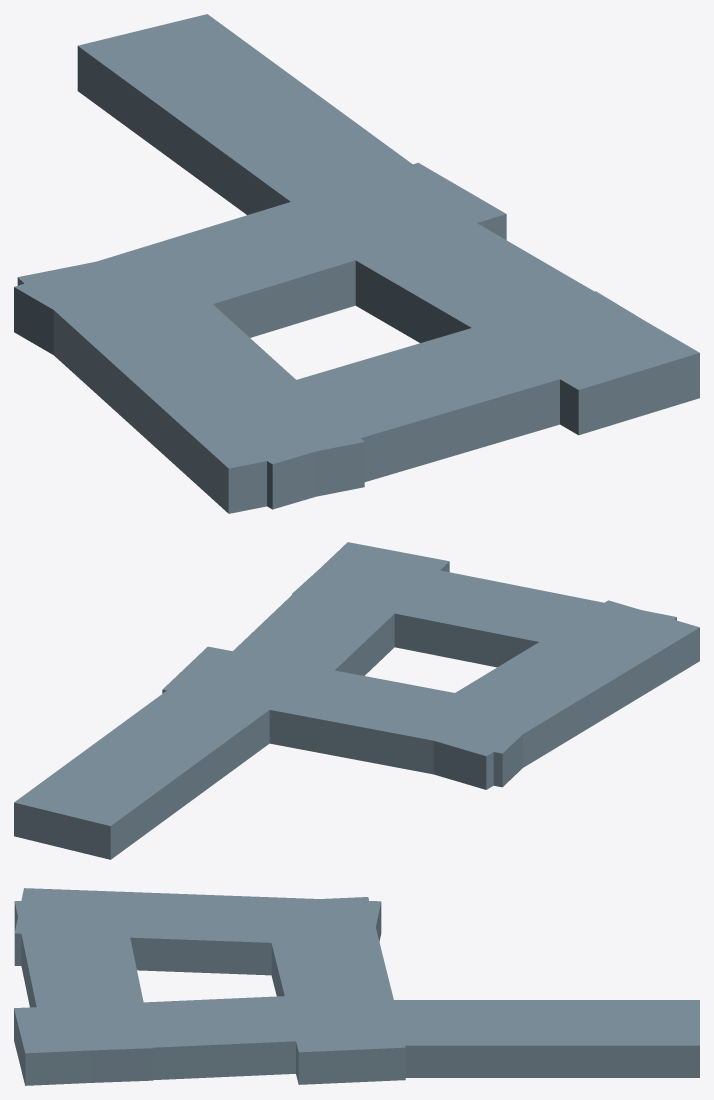
File: Blue_Key.glb
3 views of the same model, one above another, from view 1: azimuth 30°, elevation 25°; view 2: azimuth 150°, elevation 25°; view 3: azimuth 270°, elevation 25° (orthographic). The views are drawn at different scales.
Parts seen in each view (by area): view 1: Cube copy (×2), Cube, Cube copy copy copy, Cube copy copy; view 2: Cube copy (×2), Cube copy copy copy, Cube, Cube copy copy; view 3: Cube copy (×2), Cube copy copy copy, Cube, Cube copy copy.
Boxes of the visible parts, <box> form: Cube copy (×2): <box>14,162,699,435</box>; Cube: <box>17,257,364,513</box>; Cube copy copy copy: <box>77,14,456,228</box>; Cube copy copy: <box>187,291,635,509</box>; Cube copy (×2): <box>162,542,522,787</box>; Cube copy copy copy: <box>14,666,296,859</box>; Cube: <box>395,600,699,789</box>; Cube copy copy: <box>292,550,676,667</box>; Cube copy (×2): <box>14,897,405,1085</box>; Cube copy copy copy: <box>341,1000,699,1077</box>; Cube: <box>14,888,381,975</box>; Cube copy copy: <box>14,897,152,1082</box>.
Bounding box in the file's own units: 0.5452 × 0.05 × 0.9565.
